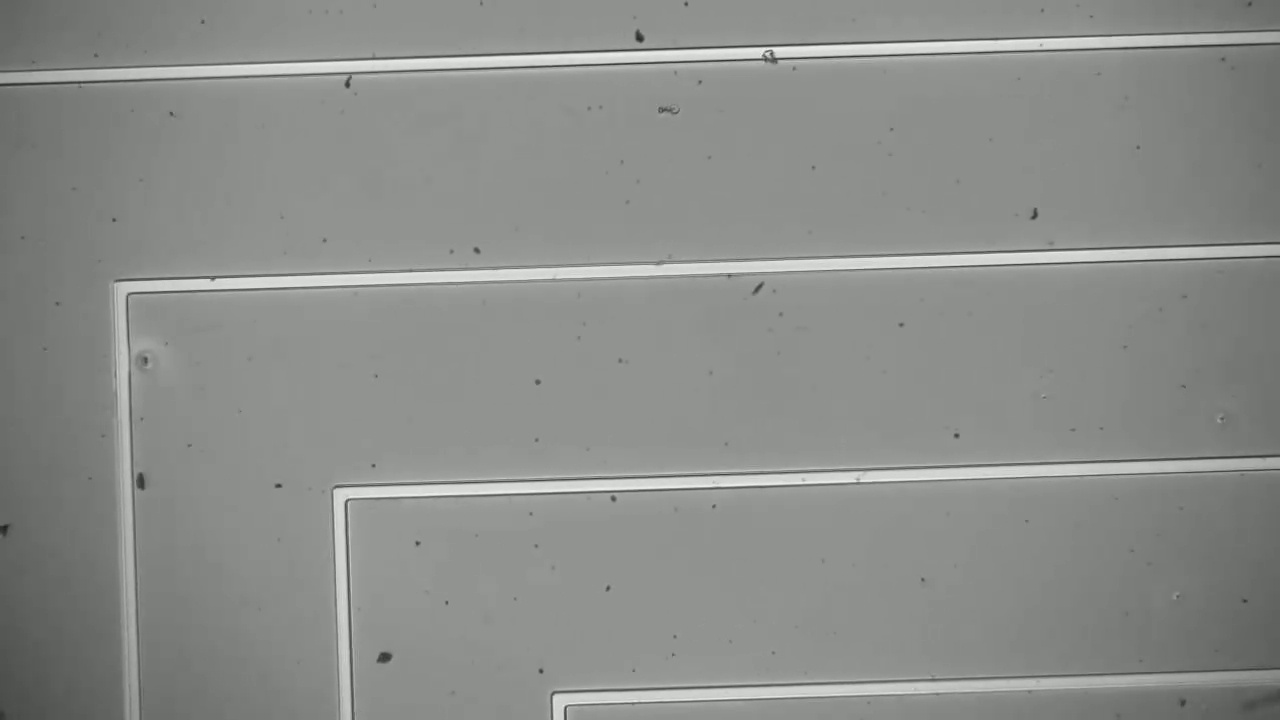stains_enbedded: (754, 37, 781, 69)
